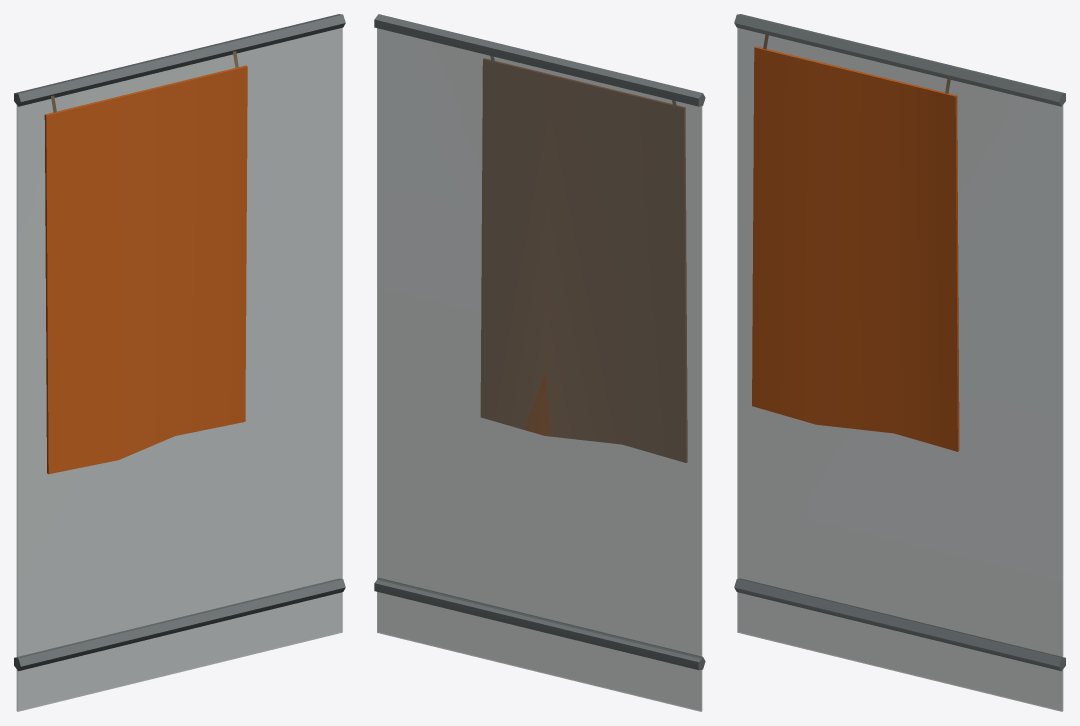
File: fence_construction_run.glb
3 renders of one model, left to right at view 1: azimuth 30°, elevation 25°; view 2: azimuth 150°, elevation 25°; view 3: azimuth 330°, elevation 25°, orthographic.
Visible parts, largest first — view 1: fence_construction_run; view 2: fence_construction_run; view 3: fence_construction_run.
Boxes of the visible parts, x1,y1,x2,y2 form: fence_construction_run: (14,14,345,711); fence_construction_run: (374,14,705,711); fence_construction_run: (734,14,1065,711).
Size of the model in its own units: 1 by 1.82 by 0.0782.
